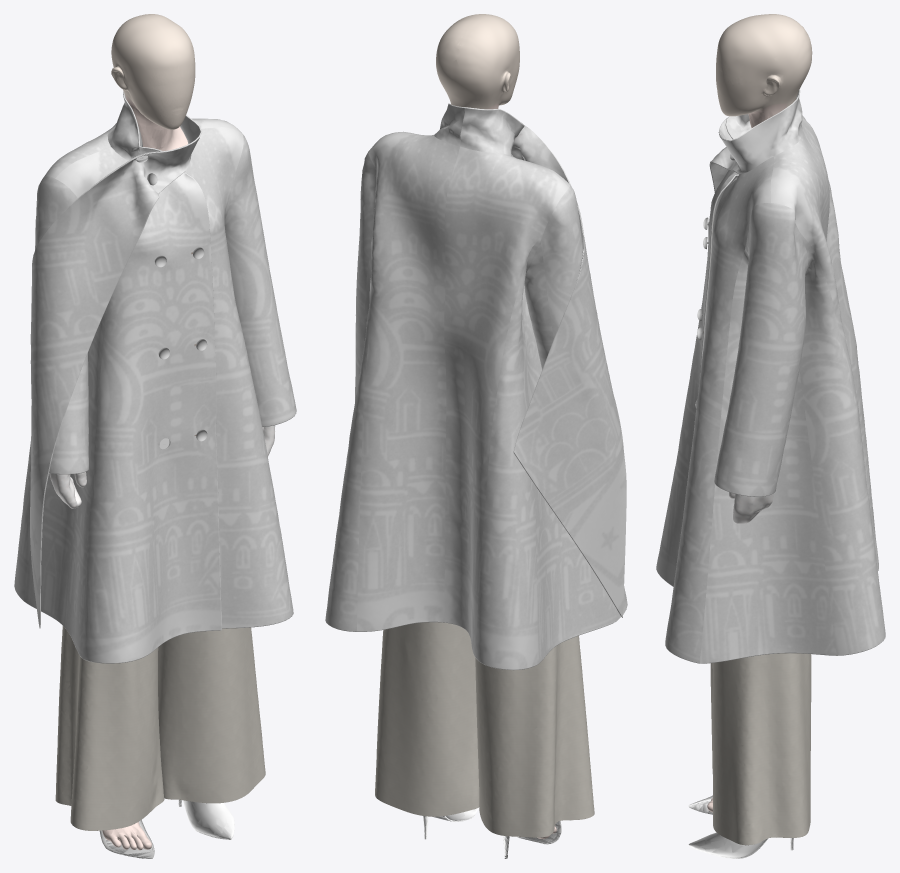
The model's file is Auntie.glb.
3 views of the same model, side by side, from view 1: azimuth 30°, elevation 25°; view 2: azimuth 150°, elevation 25°; view 3: azimuth 270°, elevation 25° (orthographic).
Visible parts, largest first — view 1: Buffer Object39, Buffer Object116, Buffer Object21, Buffer Object18, Buffer Object15, Buffer Object30, Buffer Object51, Buffer Object5, Buffer Object48, Buffer Object12, Buffer Object9, Buffer Object3 (+9 smaller); view 2: Buffer Object24, Buffer Object42, Buffer Object116, Buffer Object9, Buffer Object45, Buffer Object12, Buffer Object51, Buffer Object5, Buffer Object18, Buffer Object27, Buffer Object48, Buffer Object30 (+4 smaller); view 3: Buffer Object33, Buffer Object27, Buffer Object30, Buffer Object21, Buffer Object15, Buffer Object5, Buffer Object9, Buffer Object24, Buffer Object39, Buffer Object116, Buffer Object42, Buffer Object3 (+4 smaller).
Part boxes in pixels (x1,y1,x2,y2): Buffer Object39: (55, 147, 221, 662); Buffer Object116: (30, 137, 199, 626); Buffer Object21: (185, 127, 293, 628); Buffer Object18: (70, 640, 158, 830); Buffer Object15: (175, 627, 265, 803); Buffer Object30: (224, 134, 296, 426); Buffer Object51: (24, 310, 105, 658); Buffer Object5: (111, 14, 195, 129); Buffer Object48: (35, 176, 88, 473); Buffer Object12: (55, 626, 164, 805); Buffer Object9: (158, 637, 180, 799); Buffer Object3: (183, 800, 234, 839); Buffer Object24: (356, 131, 459, 631); Buffer Object42: (444, 146, 568, 657); Buffer Object116: (434, 104, 626, 617); Buffer Object9: (375, 622, 479, 816); Buffer Object45: (476, 232, 543, 669); Buffer Object12: (475, 645, 558, 837); Buffer Object51: (522, 286, 616, 664); Buffer Object5: (436, 14, 519, 109); Buffer Object18: (556, 635, 594, 822); Buffer Object27: (325, 278, 371, 631); Buffer Object48: (540, 185, 582, 338); Buffer Object30: (355, 149, 376, 401); Buffer Object33: (700, 236, 836, 663); Buffer Object27: (799, 232, 885, 655); Buffer Object30: (714, 203, 803, 496); Buffer Object21: (665, 156, 773, 663); Buffer Object15: (712, 654, 772, 845); Buffer Object5: (716, 14, 812, 116); Buffer Object9: (770, 653, 811, 837); Buffer Object24: (770, 131, 864, 466); Buffer Object39: (656, 170, 738, 586); Buffer Object116: (710, 97, 802, 173); Buffer Object42: (801, 115, 865, 471); Buffer Object3: (688, 832, 767, 858).
Size of the model in its own units: 0.6074 by 1.82 by 0.465.
135 materials, 129 textured.
